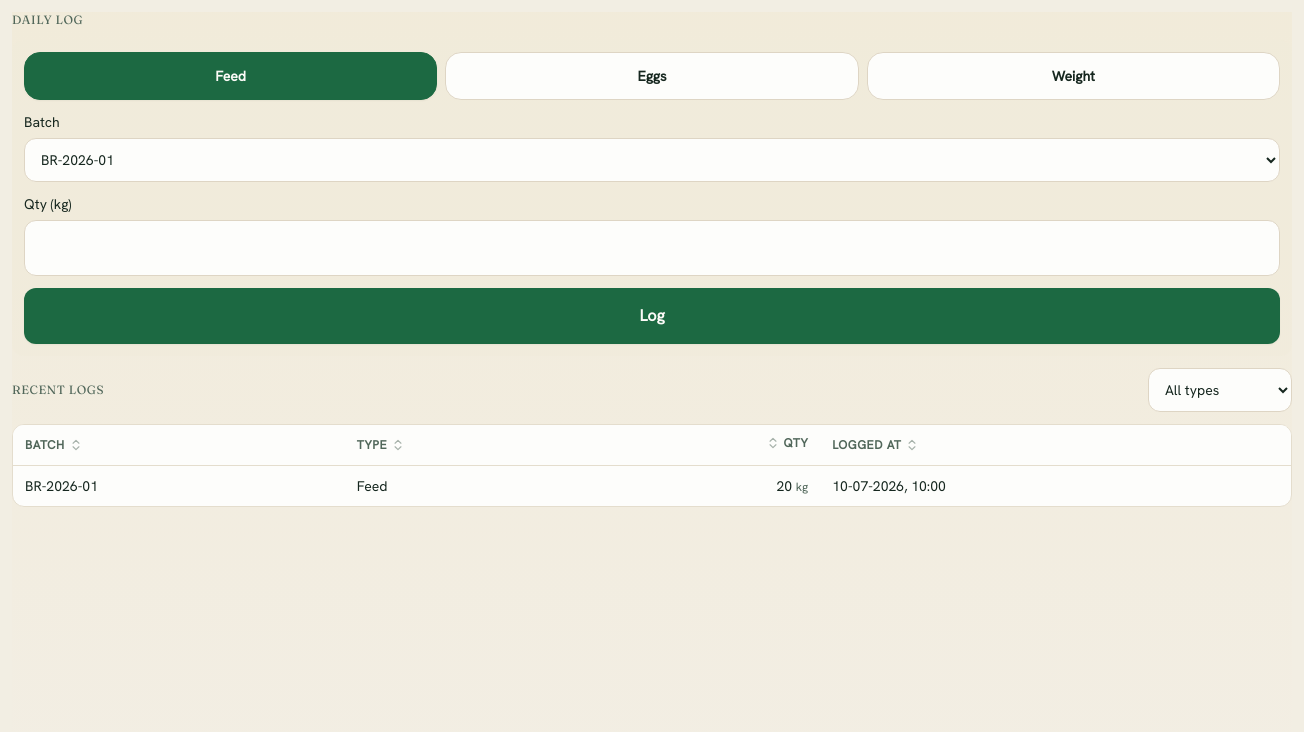
Test: DailyLogPanel (11.6a rewrite, offline queue intact) › parks a permanently-rejected (4xx) entry as a failed item with a discard control
This screenshot has width=1304, height=732.
In the number field with test id "log-qty": x=652, y=248 [24,220,1280,276], type "9"
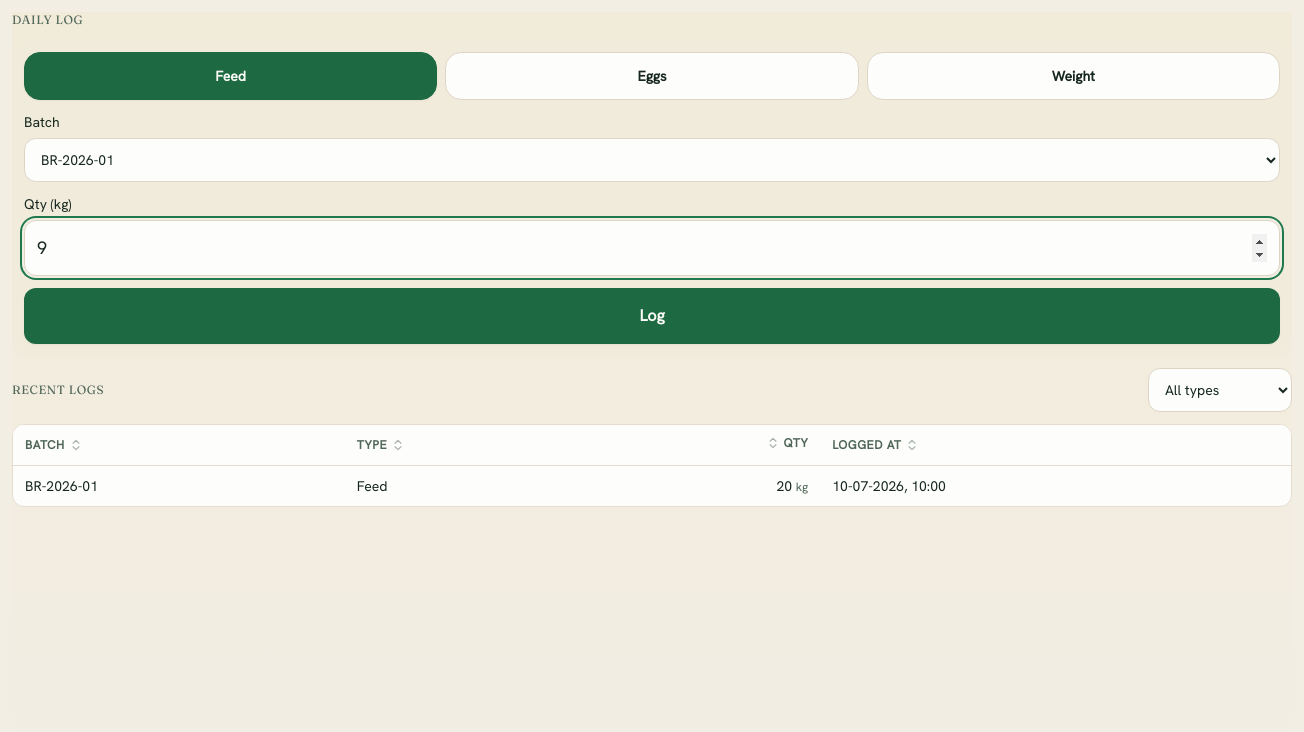
Click the button with test id "log-submit": x=652, y=316 [24,288,1280,344]
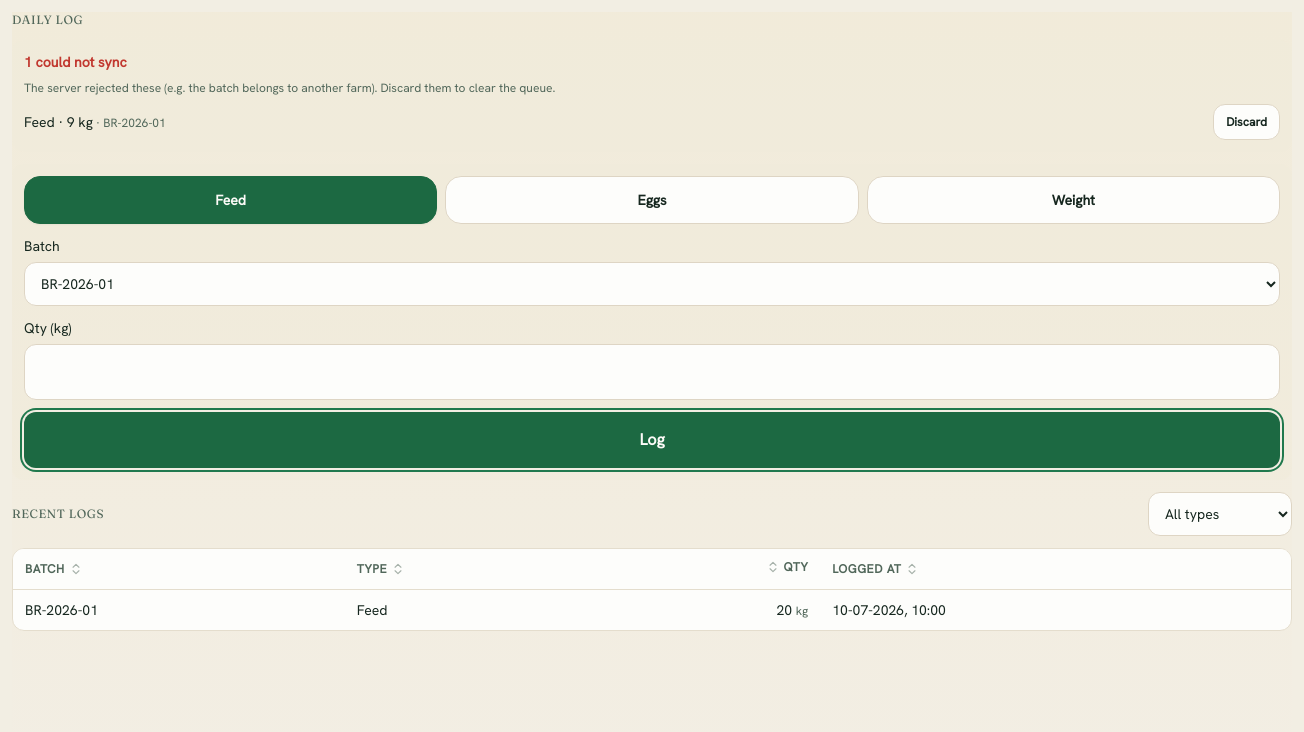
Check: the element with test id "log-failed" shows "1 could not sync", box [24,53,127,71]
Discard clears it.
Click the button "Discard": x=1247, y=122 [1213,104,1280,140]
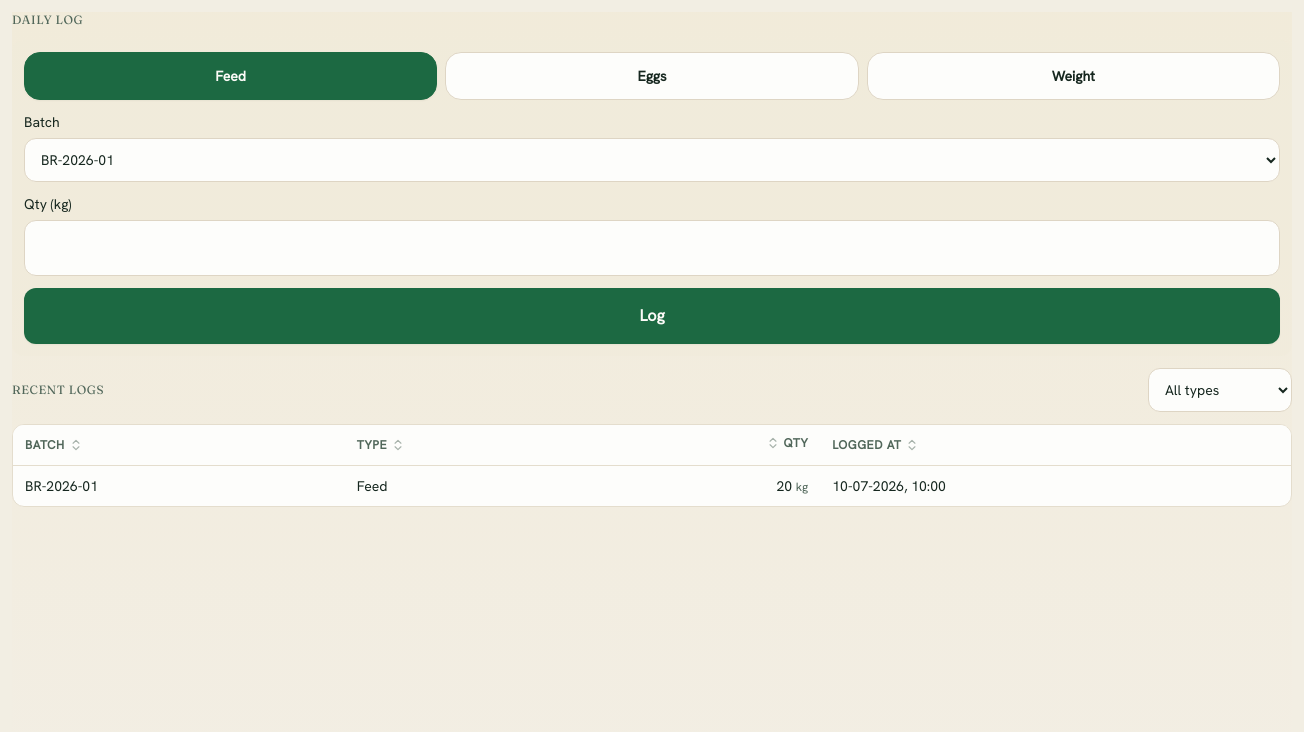
Check: the element with test id "log-failed" is gone
